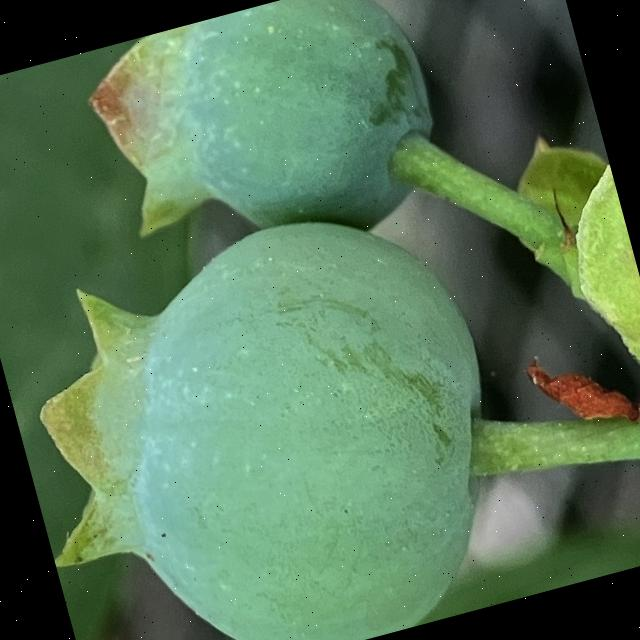Blueberries: (0, 155, 541, 640), (71, 0, 460, 288)
